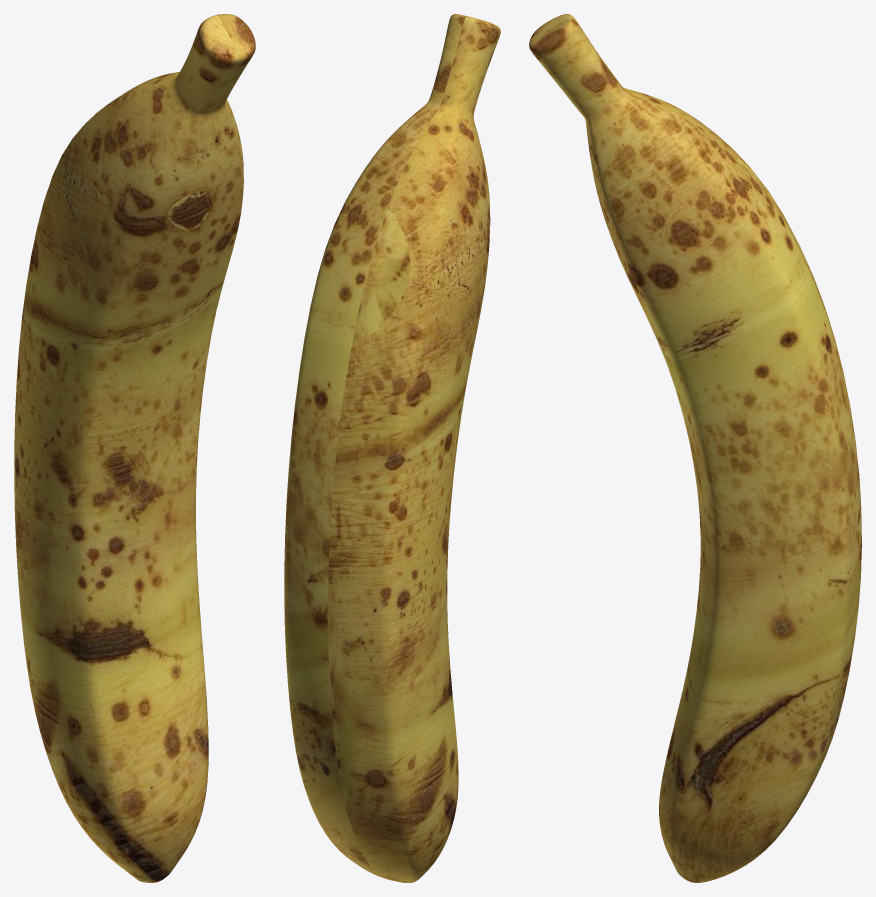
The picture shows the model from 3 angles, left to right: view 1: azimuth 30°, elevation 25°; view 2: azimuth 150°, elevation 25°; view 3: azimuth 270°, elevation 25°; orthographic projection. The views are drawn at different scales.
Bounding box in the file's own units: 0.1716 × 1 × 0.3502.
